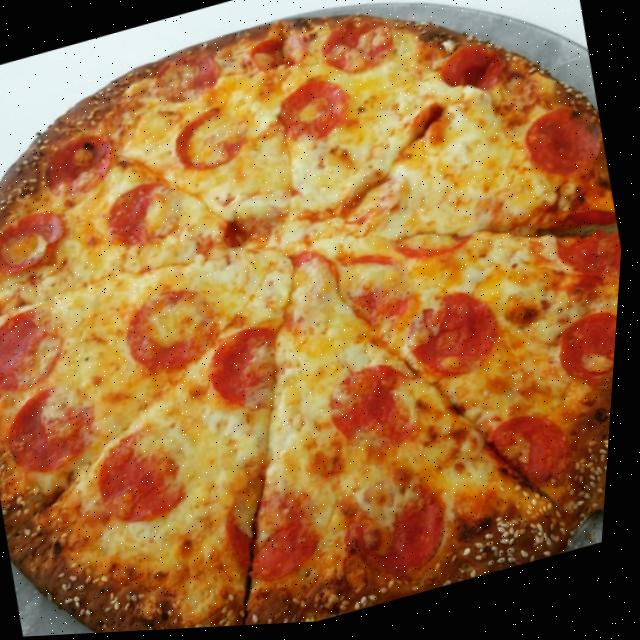pepperoni: (335, 455, 472, 599), (219, 468, 343, 596), (90, 417, 212, 534), (121, 276, 235, 388), (323, 357, 435, 470), (1, 374, 114, 484), (399, 286, 513, 395), (480, 411, 589, 509), (206, 320, 303, 422), (515, 100, 614, 199), (0, 299, 84, 405), (543, 199, 628, 295), (337, 247, 423, 340), (164, 100, 260, 181), (101, 174, 192, 256), (270, 71, 360, 153), (273, 246, 353, 336), (551, 306, 623, 401), (38, 125, 125, 202), (0, 202, 79, 284), (314, 11, 401, 85), (148, 48, 230, 114), (430, 42, 512, 106), (338, 174, 418, 237), (394, 220, 480, 271), (244, 31, 316, 82)
pizza: (0, 0, 640, 640)
